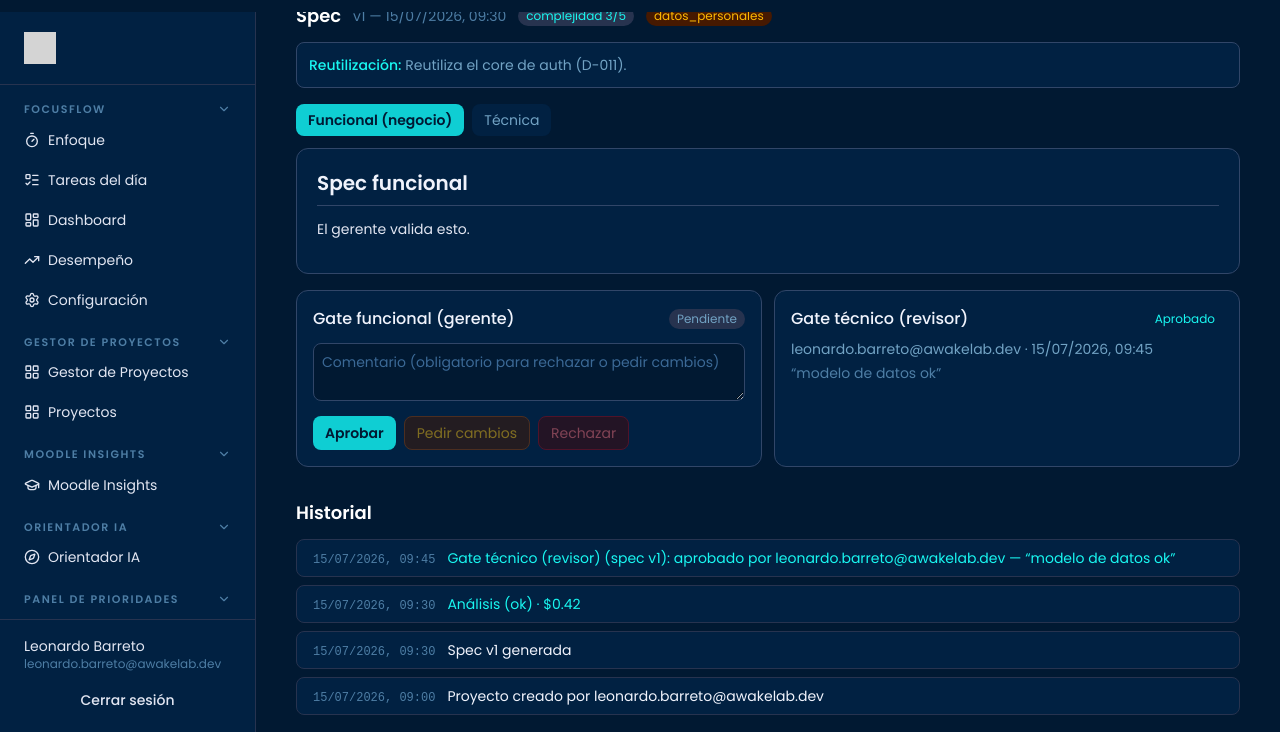
it: FactoryProjectDetailPage (rol admin, D-030) › rechazar exige comentario: el botón queda deshabilitado sin notas
The image size is (1280, 732).
(page scrolled)
Check: the element with test id "factory-gate-functional" is shown, box [296,290,762,467]
Check: the button "Rechazar" is disabled, box [538,416,629,450]
In the text box named "Comentario para Gate funcional (gerente)": (529, 372) [313,343,745,401], type "No corresponde a un módulo"
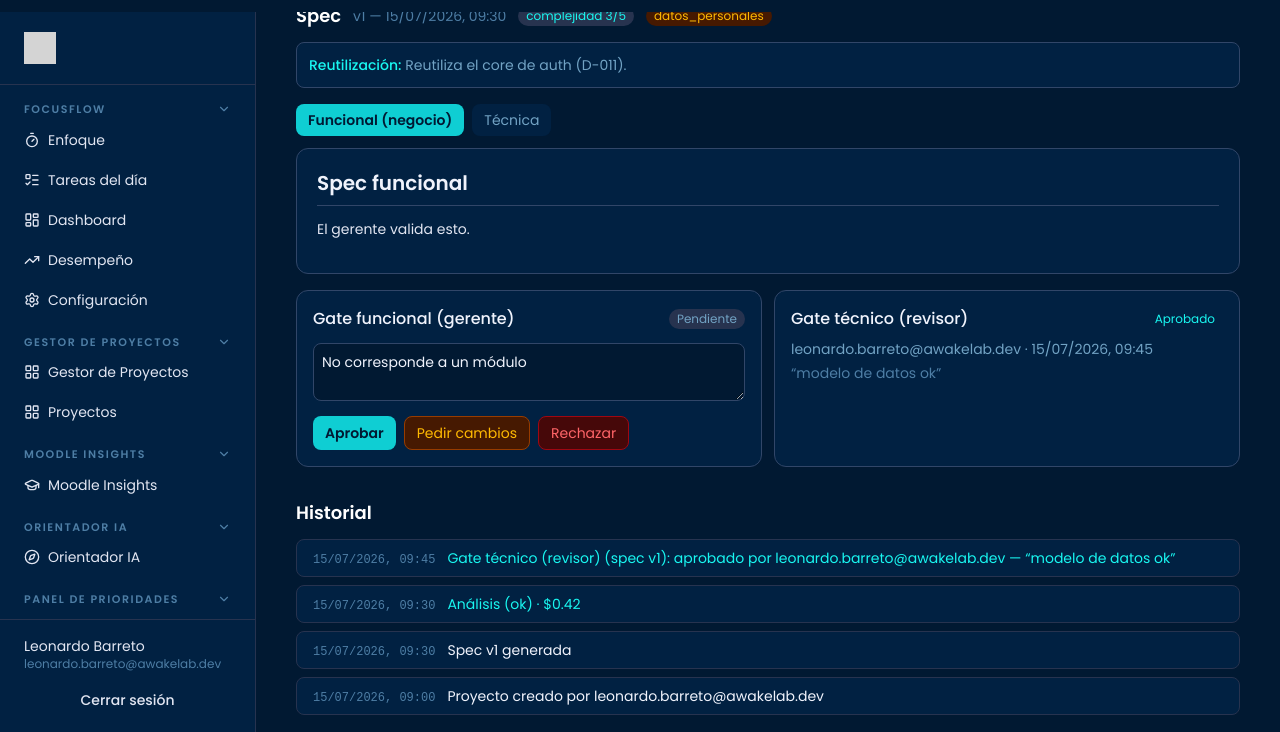
Check: the button "Rechazar" is enabled, box [538,416,629,450]
